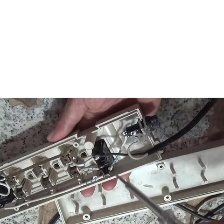three_eye_plug: (0, 101, 167, 224), (45, 131, 224, 224)
